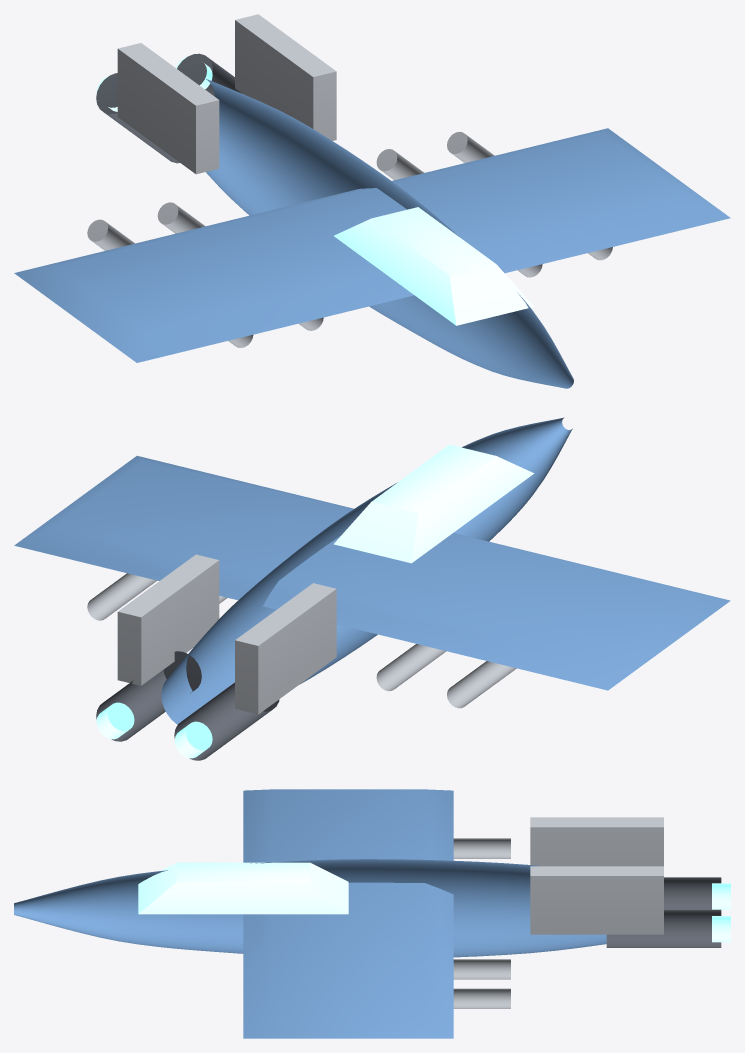
File: beag.glb
3 renders of one model, top to bottom at view 1: azimuth 30°, elevation 25°; view 2: azimuth 150°, elevation 25°; view 3: azimuth 270°, elevation 25°, orthographic. The views are drawn at different scales.
Parts seen in each view (by area): view 1: Hull; view 2: Hull; view 3: Hull.
Part boxes in pixels (left/top/right/bottom): Hull: left=14, top=14, right=730, bottom=388; Hull: left=14, top=417, right=730, bottom=760; Hull: left=14, top=789, right=730, bottom=1038.
Size of the model in its own units: 3.19 by 0.646 by 3.9.
